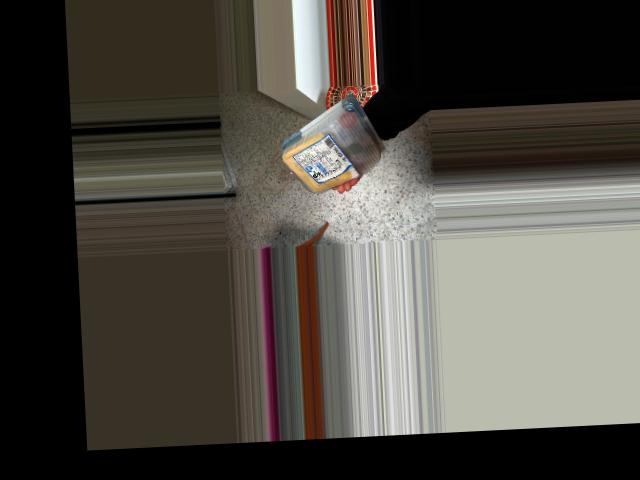cheese: (272, 100, 385, 196)
